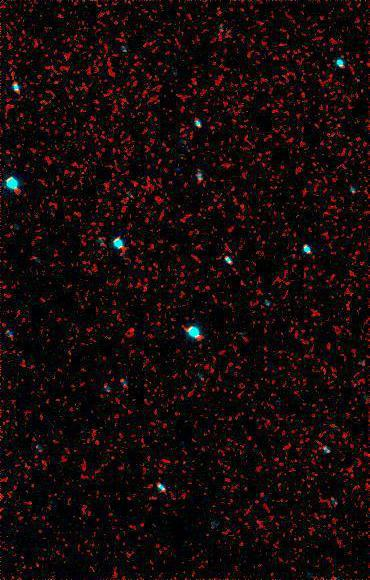star: (117, 316, 147, 346)
